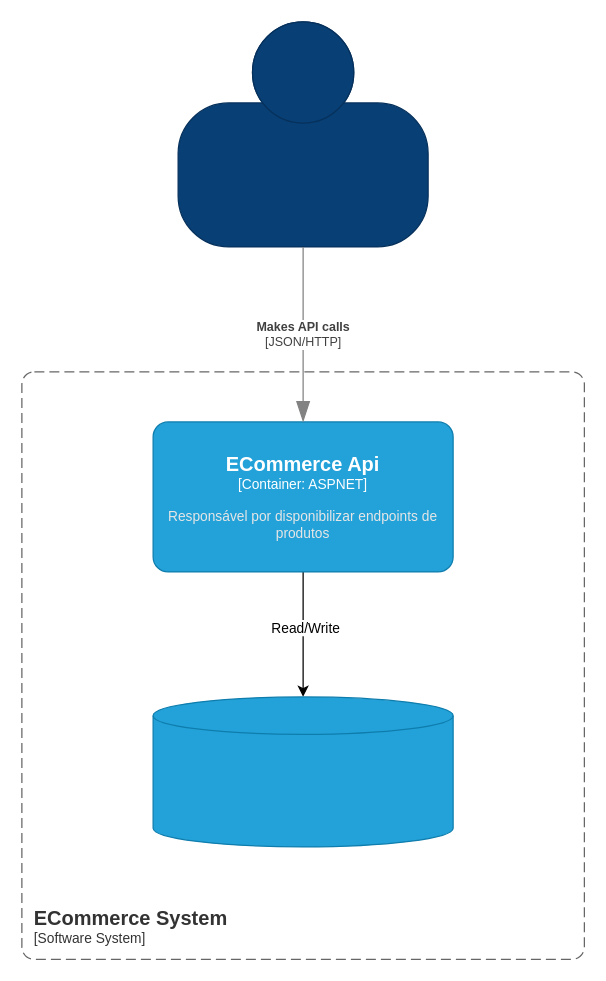
Some shapes in this 606 by 981 pixel diagram are drawn without their labels. The shapes that lost their labels are listed below. From the top down, each one's centre as x and y in pixels, then its label:
At (302,134): "Cliente [Person] Usuário da empresa de vendas online".
At (302,771): "Database [Container: SQLServer] Responsável por persistir os dados".
